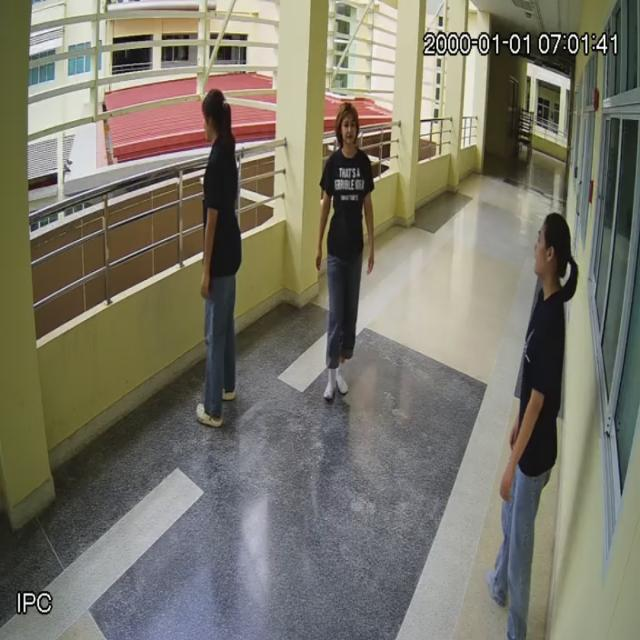normal: (489, 212, 577, 640), (315, 104, 374, 403), (191, 90, 243, 427)
